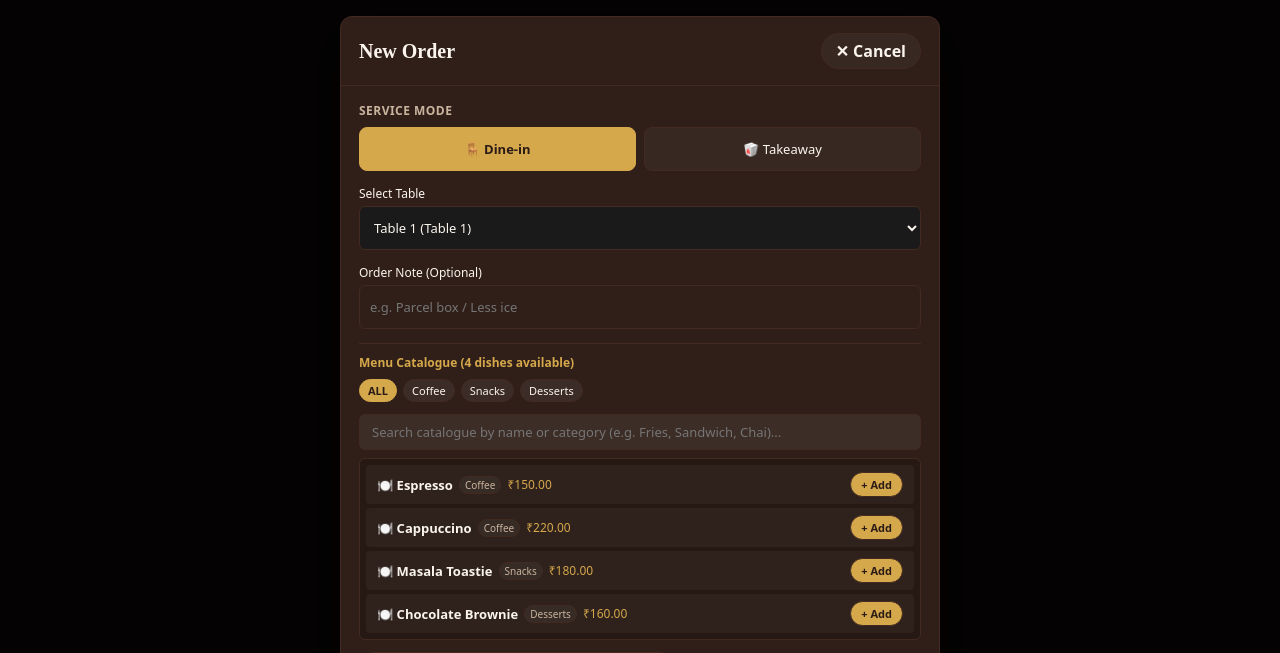
Scenario: ManualOrderModal Component › shows helpful empty state when search term has no match
Replace the text in the field named "Search menu dishes" with "Nonexistent Pizza": {"x": 640, "y": 432} [359,414,921,450]
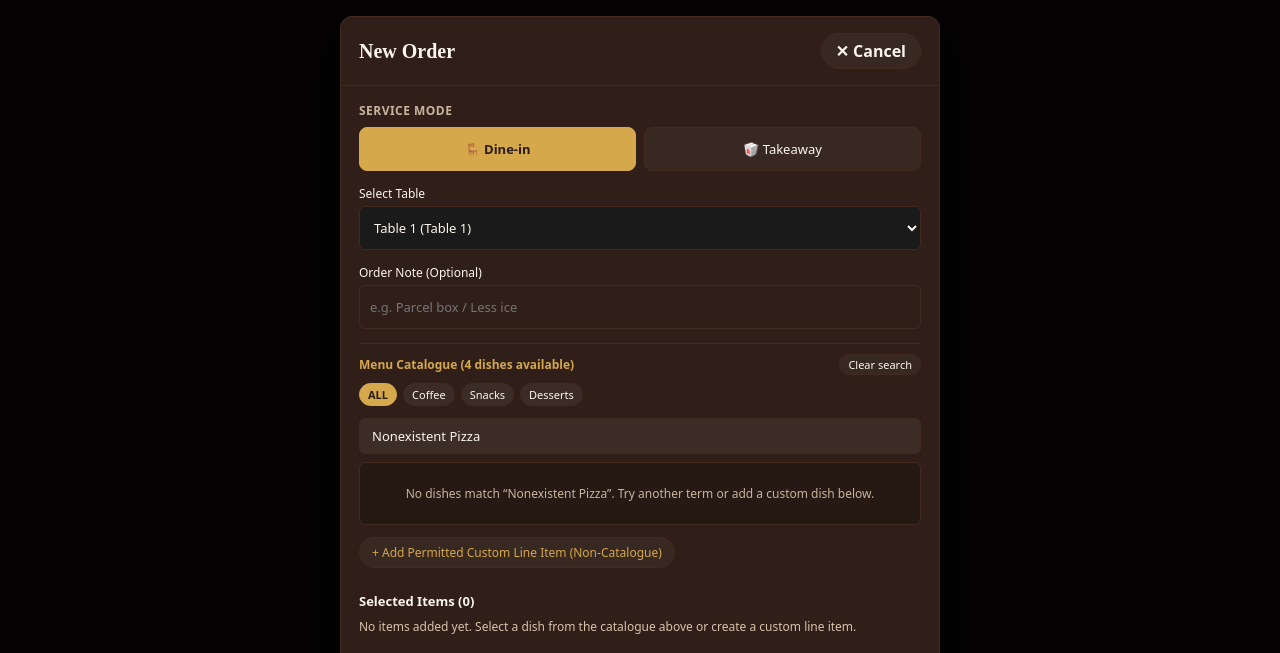
Now the text "No dishes match “Nonexistent Pizza”" is shown, box [406,485,874,502]
